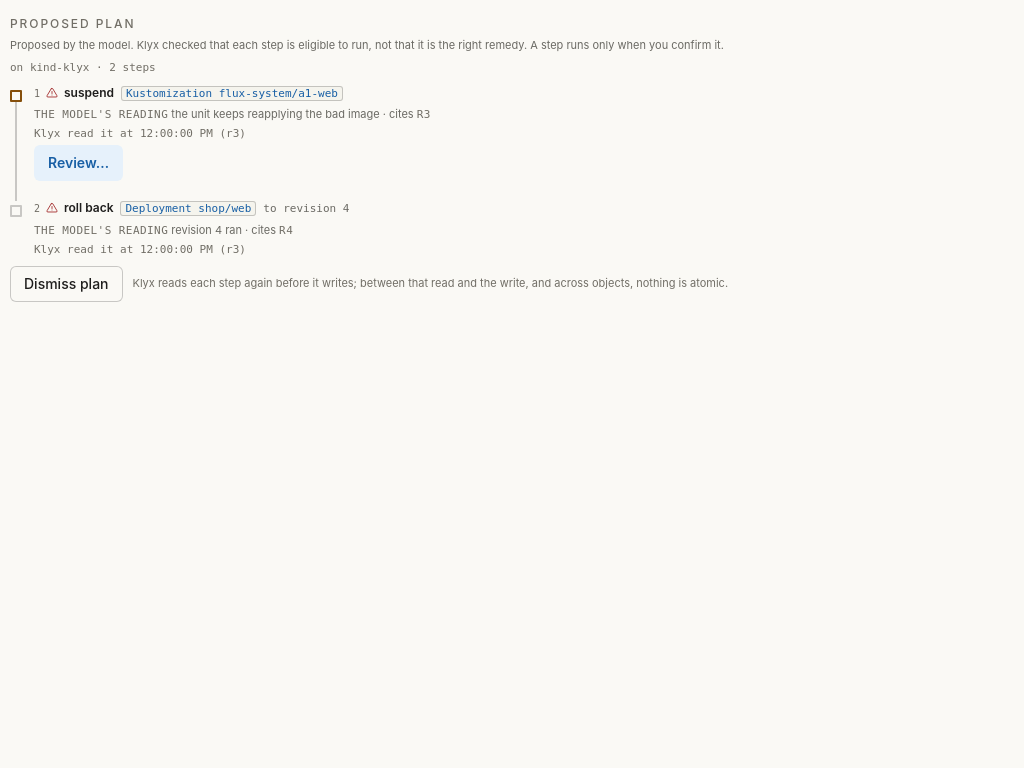
Test: ActionCard › says why RunStep did not run it, and logs that nothing ran
Click the button with test id "act-review". click: coordinates (78, 163)
box: [34,145,123,181]
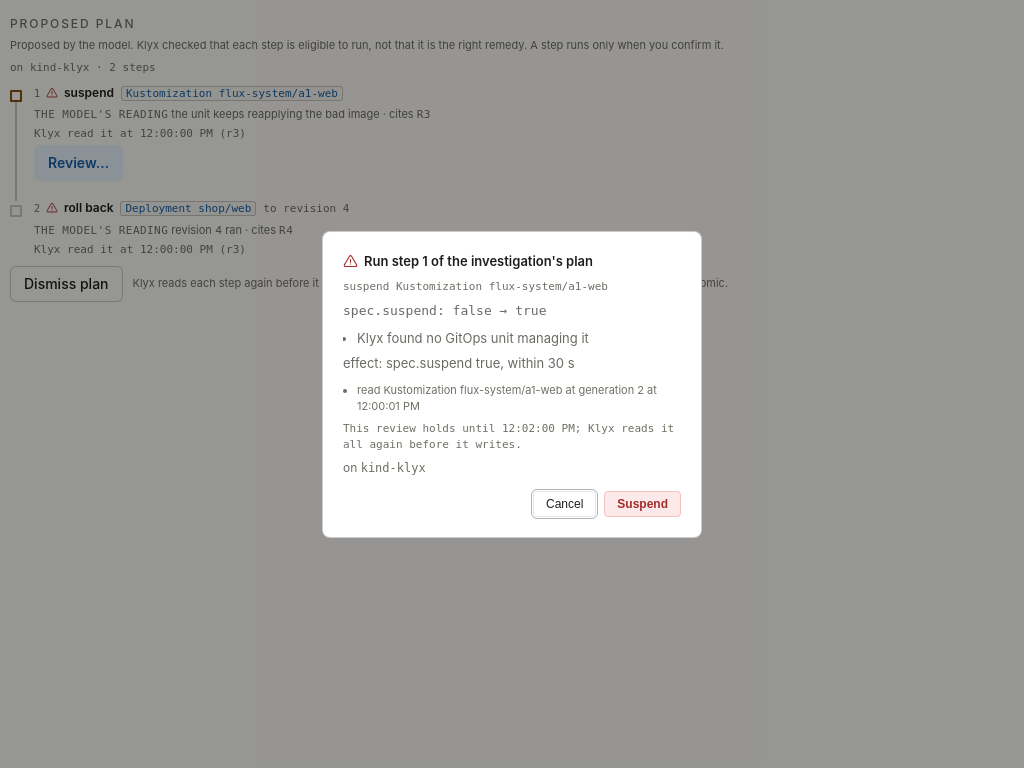
Check: the dialog is shown, box [322,230,702,538]
Click the button "Suspend". click: coordinates (643, 504)
box: [604,490,681,516]
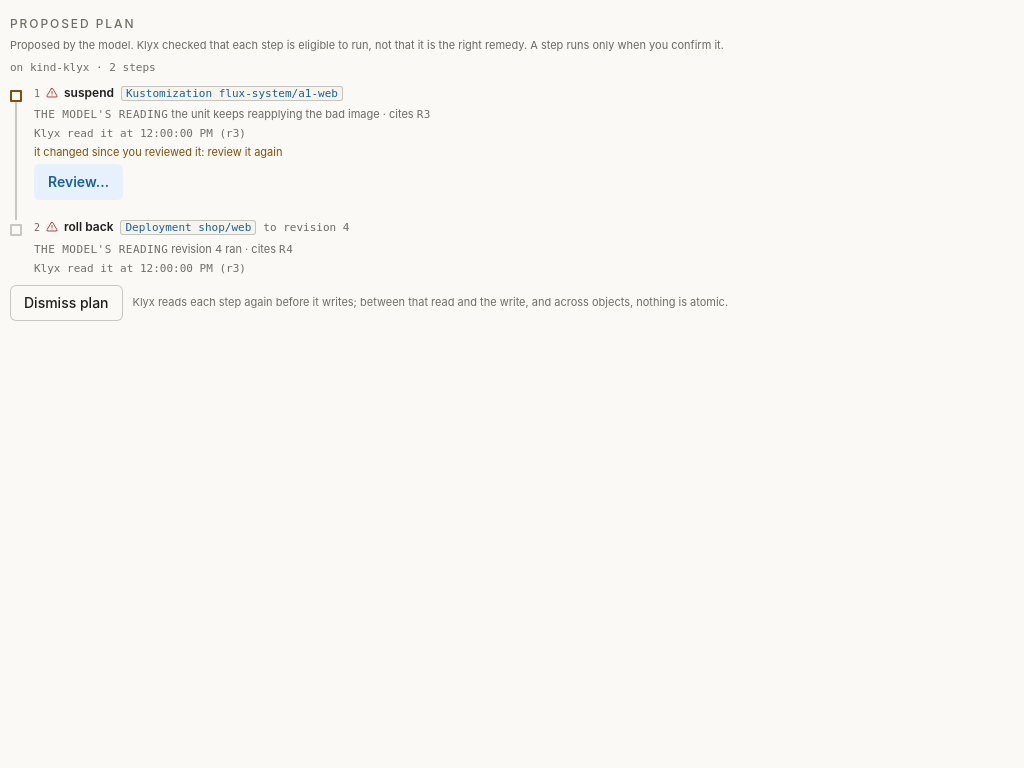
Check: the message with test id "act-note" shows "changed since you reviewed it", box [34,145,282,159]
